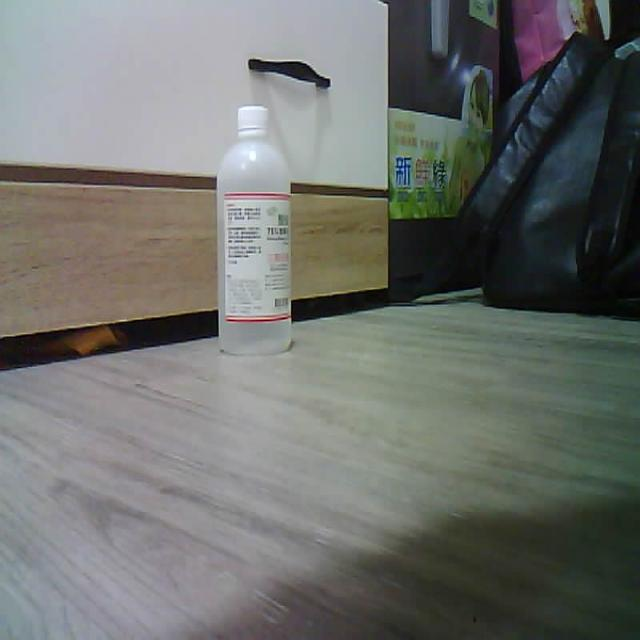bottle: (218, 105, 291, 354)
